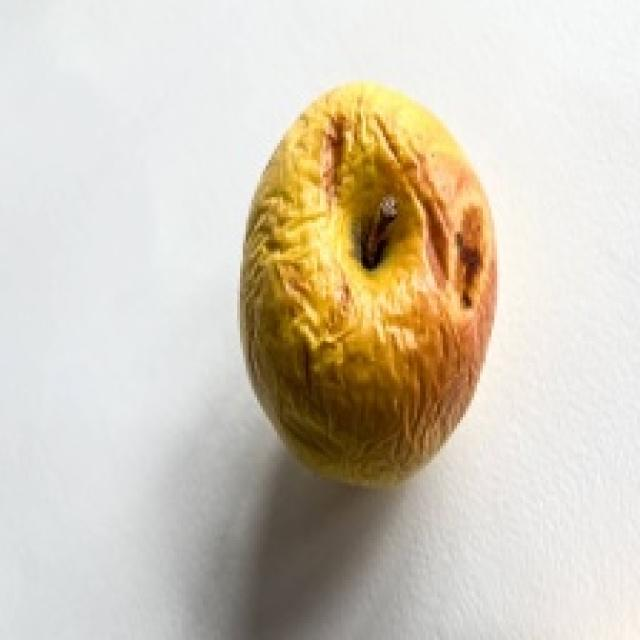rotten_apple: (245, 86, 492, 486)
